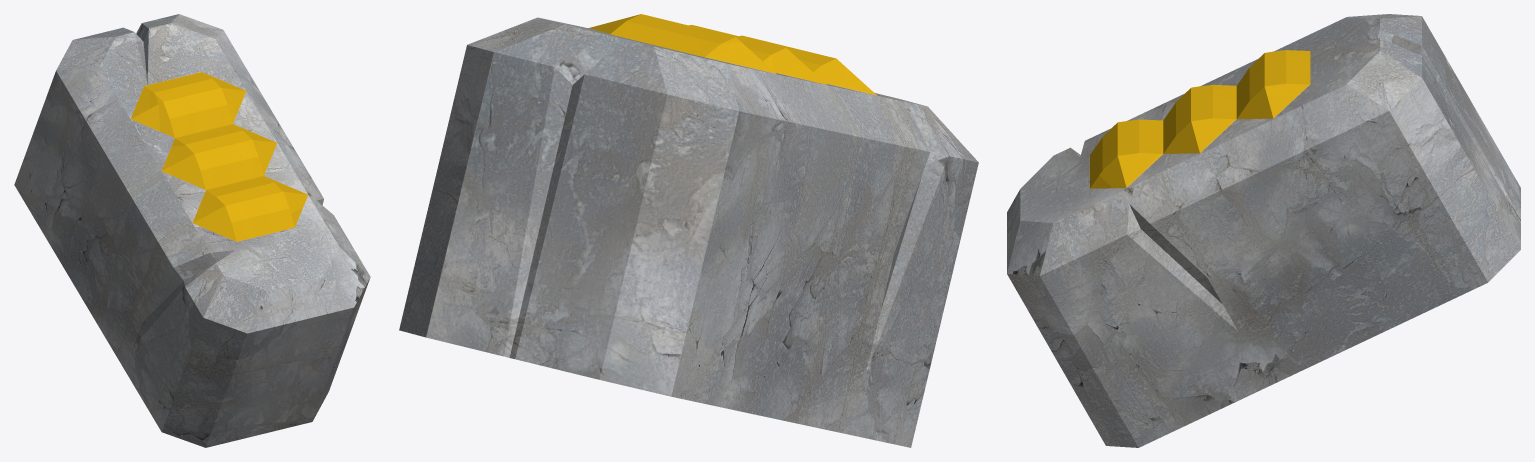
Rendered from MainMenu_SliderHead.fbx.
3 renders of one model, left to right at view 1: azimuth 30°, elevation 25°; view 2: azimuth 150°, elevation 25°; view 3: azimuth 270°, elevation 25°, orthographic. The views are drawn at different scales.
Visible parts, largest first — view 1: Slider_Volume; view 2: Slider_Volume; view 3: Slider_Volume.
Part boxes in pixels (box(x1,y1,x2,y2)): Slider_Volume: box(14, 14, 370, 447); Slider_Volume: box(399, 14, 978, 447); Slider_Volume: box(1007, 14, 1520, 447).
Bounding box in the file's own units: 1.93 × 3.54 × 4.34.
1 material, 1 textured.
